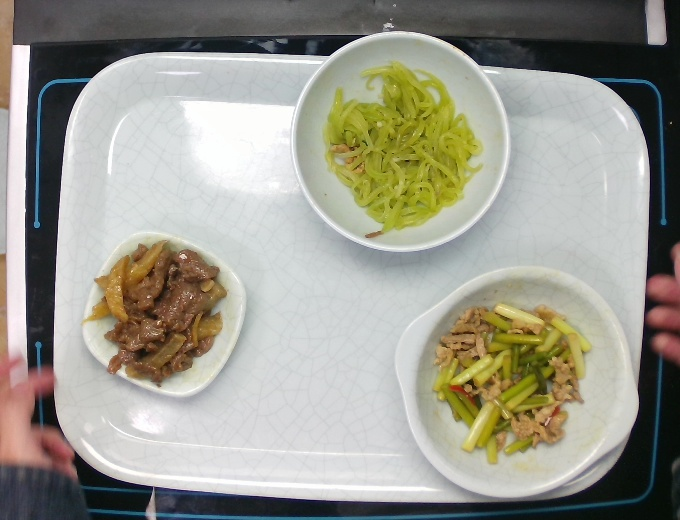JYsf-Fan_Wan: (288, 28, 511, 256)
JYsf-Shuang_Er_Wan: (393, 264, 643, 500)
JYsf-Si_Fang_Die: (81, 228, 250, 399)
